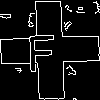F: (25, 25, 57, 73)
